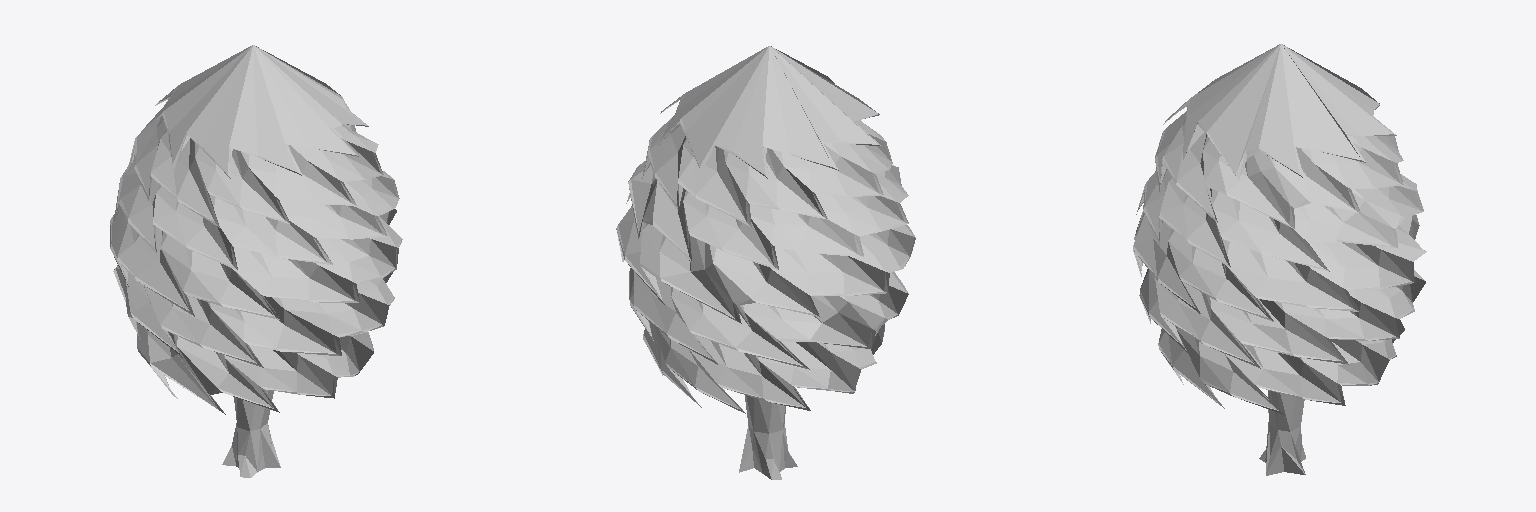
File: Pinetree7.obj
The picture shows the model from 3 angles: view 1: azimuth 30°, elevation 25°; view 2: azimuth 150°, elevation 25°; view 3: azimuth 270°, elevation 25°; orthographic projection.
Parts seen in each view (by area): view 1: Pinetree7; view 2: Pinetree7; view 3: Pinetree7.
Part boxes in pixels (x1,y1,x2,y2): Pinetree7: (110,45,402,477); Pinetree7: (616,46,915,479); Pinetree7: (1133,44,1426,475).
Bounding box in the file's own units: 1.78 × 2.76 × 1.74.